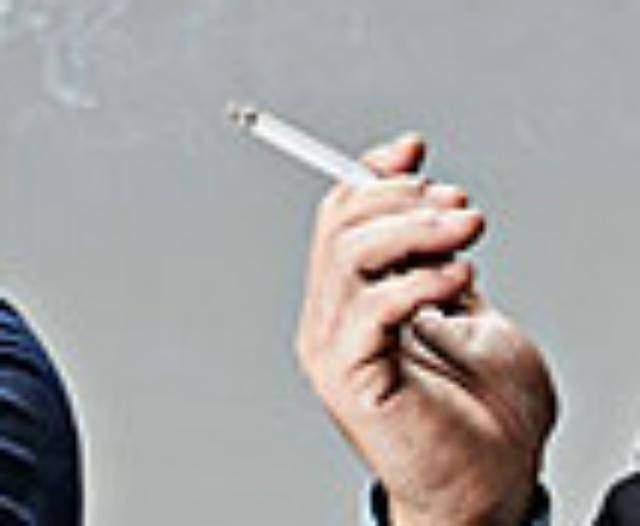Smoking: (225, 102, 401, 204)
